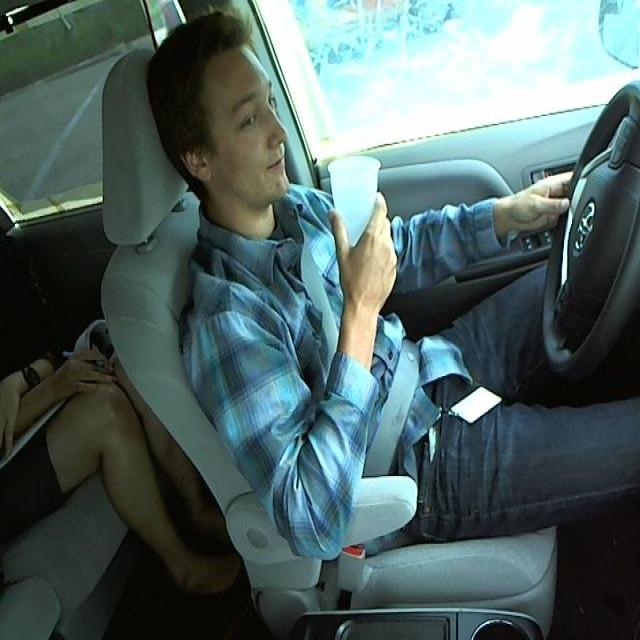Seatbelt: (326, 153, 389, 263)
